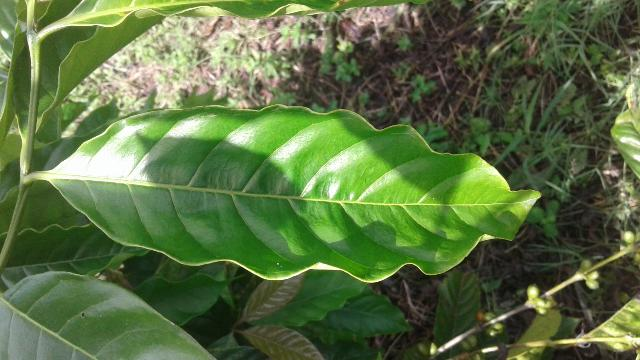healthy: (48, 101, 552, 289)
